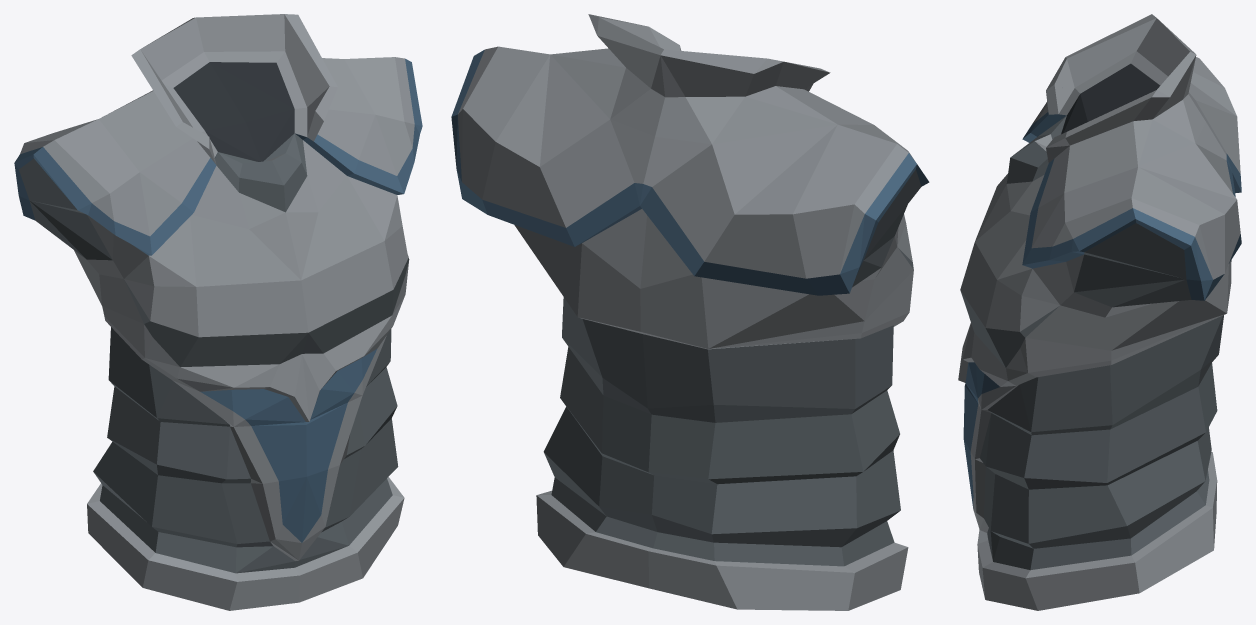
File: Chr_Torso_Male_19_Static.fbx
The picture shows the model from 3 angles, left to right: view 1: azimuth 30°, elevation 25°; view 2: azimuth 150°, elevation 25°; view 3: azimuth 270°, elevation 25°; orthographic projection. The views are drawn at different scales.
Visible parts, largest first — view 1: Chr_Torso_Male_19_Static; view 2: Chr_Torso_Male_19_Static; view 3: Chr_Torso_Male_19_Static.
Part boxes in pixels (x1,y1,x2,y2): Chr_Torso_Male_19_Static: (14, 14, 422, 610); Chr_Torso_Male_19_Static: (451, 14, 929, 610); Chr_Torso_Male_19_Static: (958, 14, 1241, 610).
Bounding box in the file's own units: 0.5384 × 0.6927 × 0.3419.
